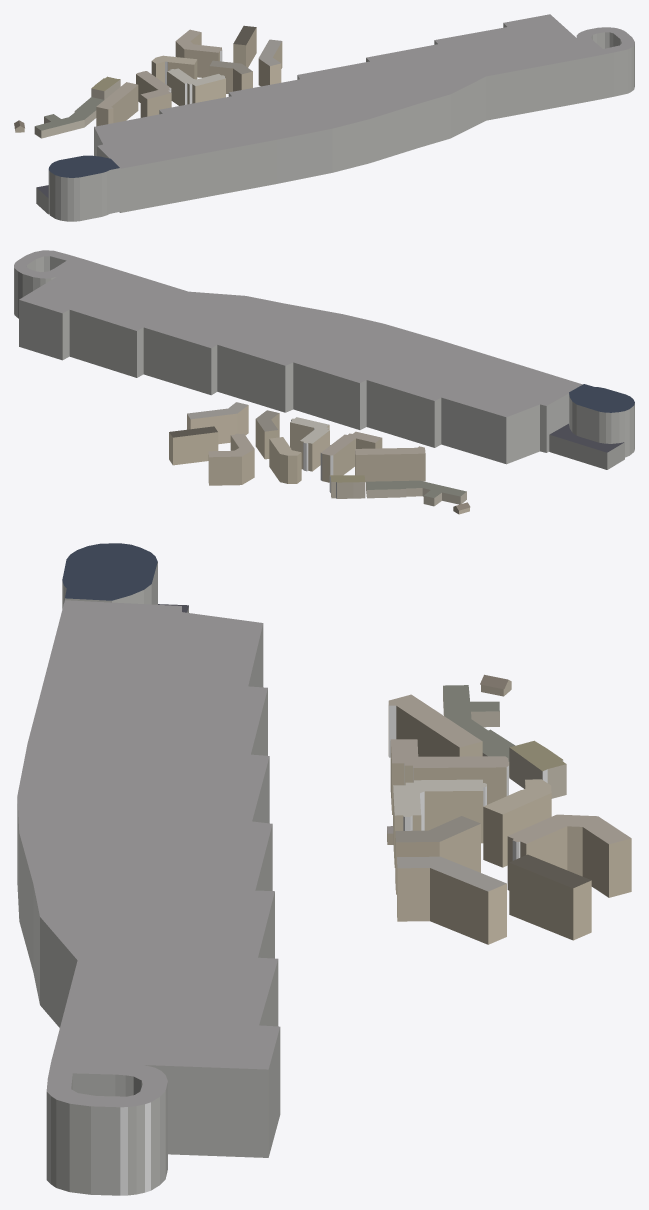
3 views of the same model, one above another, from view 1: azimuth 30°, elevation 25°; view 2: azimuth 150°, elevation 25°; view 3: azimuth 270°, elevation 25° (orthographic). The views are drawn at different scales.
Parts seen in each view (by area): view 1: tuile; view 2: tuile; view 3: tuile.
Boxes of the visible parts, x1=… form: tuile: x1=14, y1=14, x2=634, y2=221; tuile: x1=14, y1=250, x2=634, y2=514; tuile: x1=17, y1=543, x2=631, y2=1195.
Bounding box in the file's own units: 502 × 37.95 × 232.
